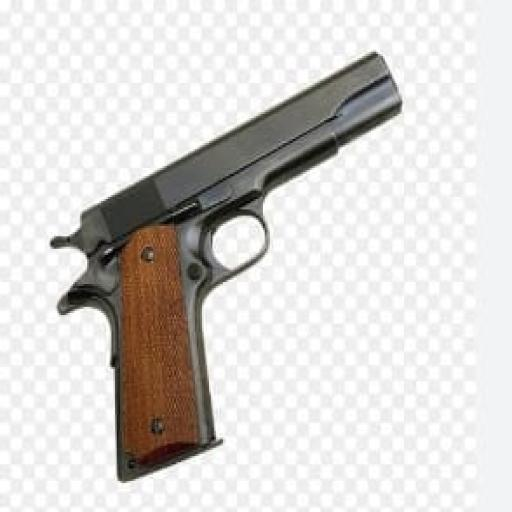Gun: (52, 54, 399, 477)
